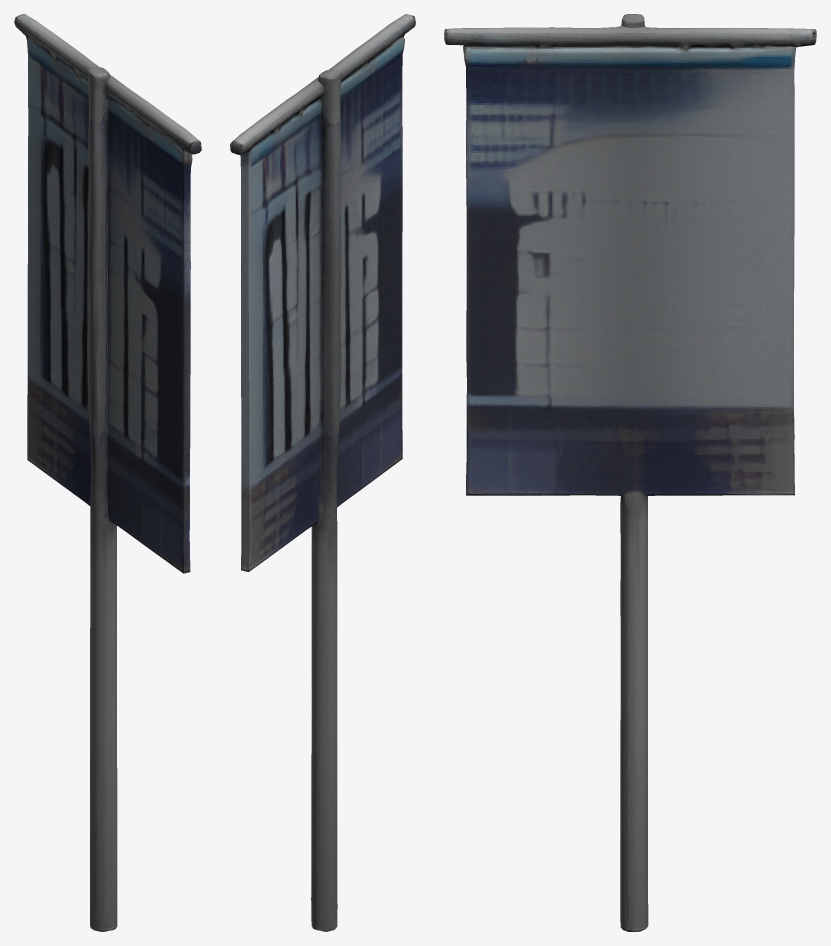
The model's file is billboard_tex.glb.
3 views of the same model, side by side, from view 1: azimuth 30°, elevation 25°; view 2: azimuth 150°, elevation 25°; view 3: azimuth 270°, elevation 25° (orthographic). The views are drawn at different scales.
Visible parts, largest first — view 1: billboard; view 2: billboard; view 3: billboard.
Boxes of the visible parts, box(x1,y1,x2,y2) form: billboard: box(14, 14, 201, 931); billboard: box(230, 14, 415, 931); billboard: box(444, 14, 816, 931).
Size of the model in its own units: 0.0321 by 1 by 0.372.
1 material, 1 textured.
